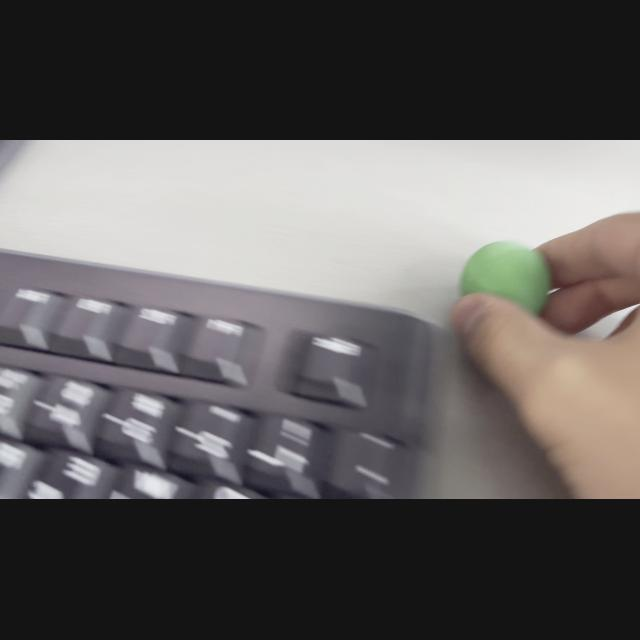objects: (458, 238, 554, 312)
